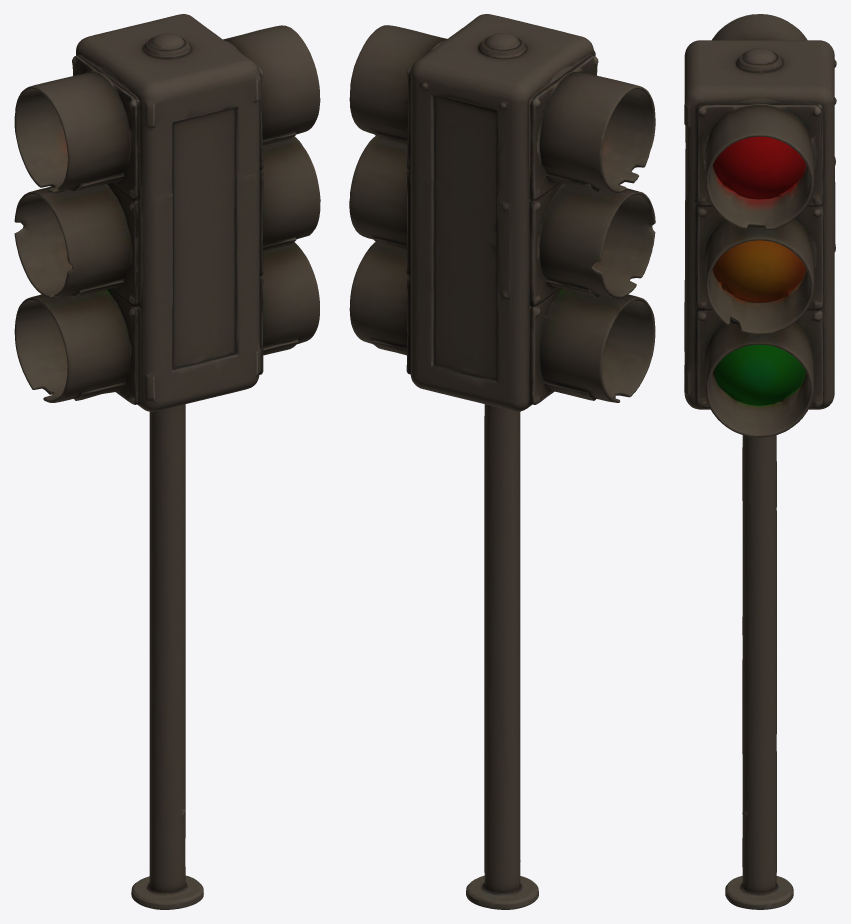
File: traffic-light.glb
3 renders of one model, left to right at view 1: azimuth 30°, elevation 25°; view 2: azimuth 150°, elevation 25°; view 3: azimuth 270°, elevation 25°, orthographic.
Parts seen in each view (by area): view 1: tripo_node_121f72b9-49ed-4d88-83e2-8c649bafd54c; view 2: tripo_node_121f72b9-49ed-4d88-83e2-8c649bafd54c; view 3: tripo_node_121f72b9-49ed-4d88-83e2-8c649bafd54c.
Part boxes in pixels (x1,y1,x2,y2): tripo_node_121f72b9-49ed-4d88-83e2-8c649bafd54c: [14, 14, 320, 909]; tripo_node_121f72b9-49ed-4d88-83e2-8c649bafd54c: [349, 14, 655, 909]; tripo_node_121f72b9-49ed-4d88-83e2-8c649bafd54c: [684, 14, 836, 909].
Bounding box in the file's own units: 0.3699 × 1.2 × 0.1962.
1 material, 1 textured.
